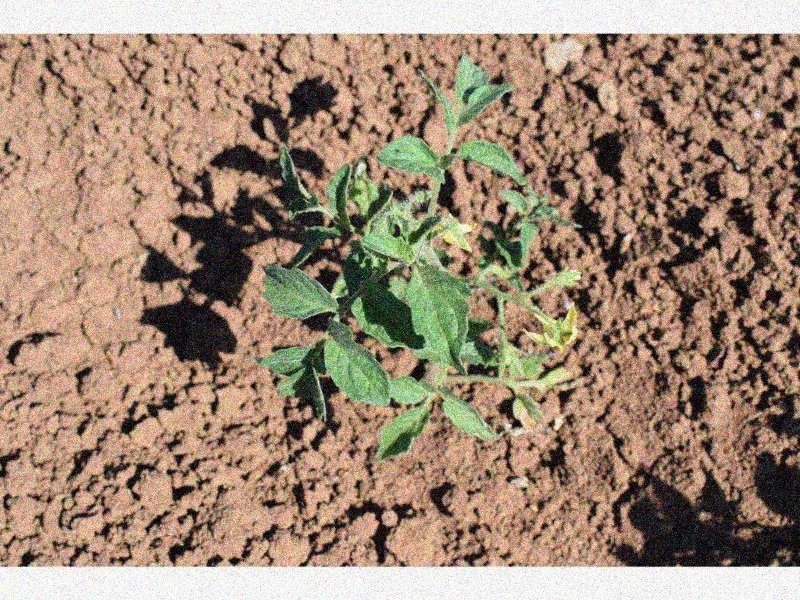tomato: (255, 52, 585, 461)
